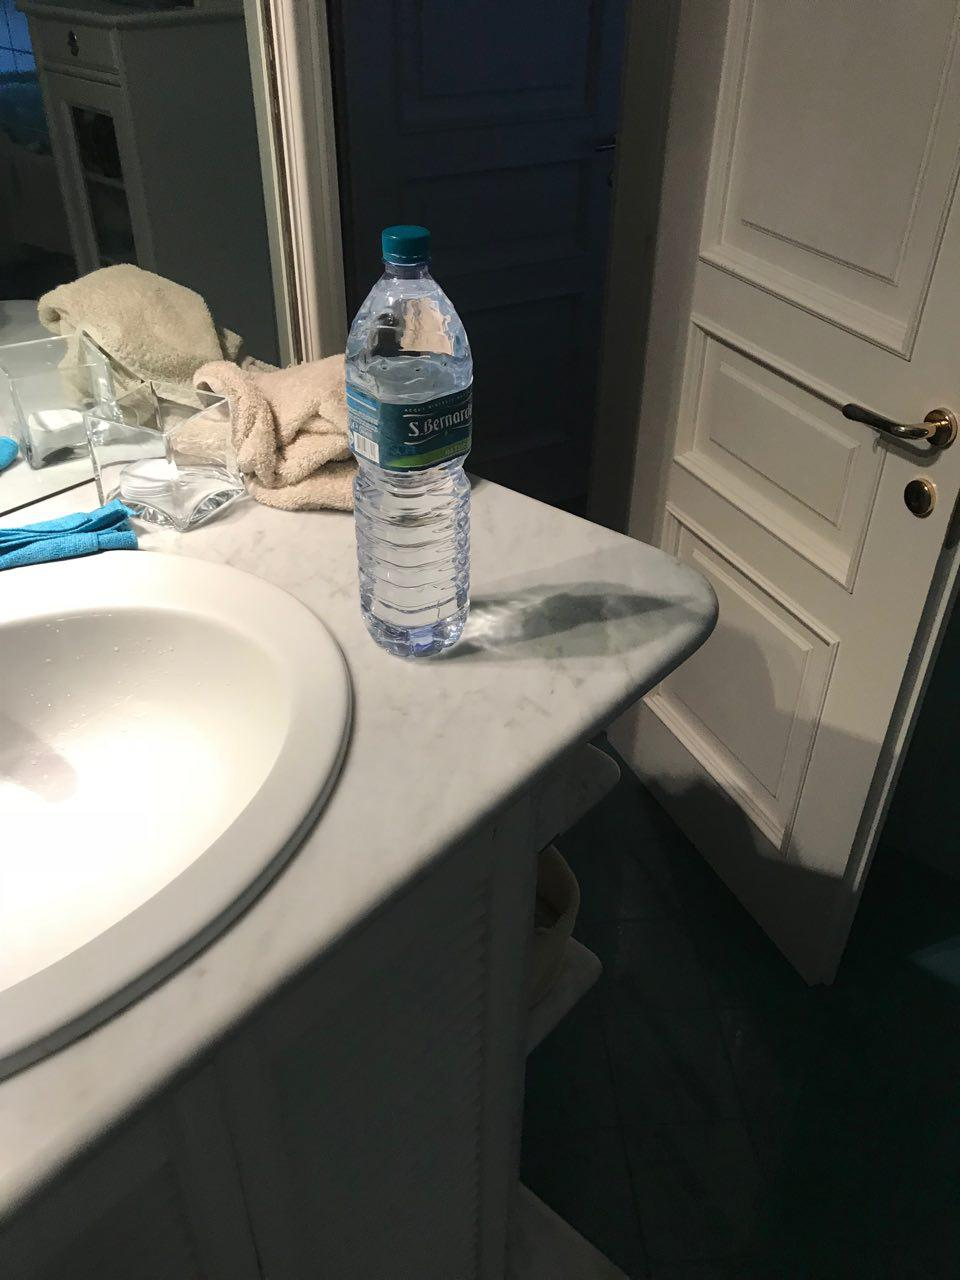san_bernardo: (344, 223, 474, 657)
